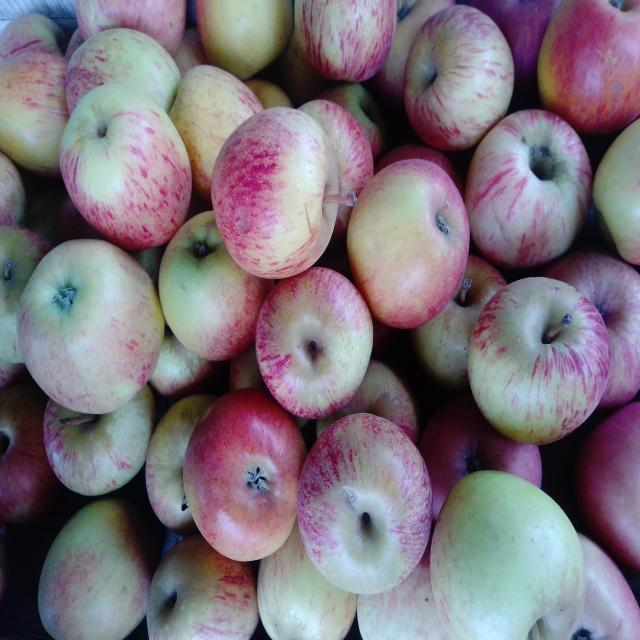Fresh Apple: (13, 242, 167, 420), (434, 475, 588, 640), (300, 413, 433, 595), (212, 102, 343, 278), (175, 385, 305, 560), (470, 272, 607, 438), (465, 109, 593, 274), (58, 84, 192, 238), (355, 155, 470, 325), (260, 268, 372, 417), (35, 498, 150, 640), (398, 5, 520, 138), (536, 0, 640, 125), (288, 0, 401, 81), (196, 0, 291, 71)
